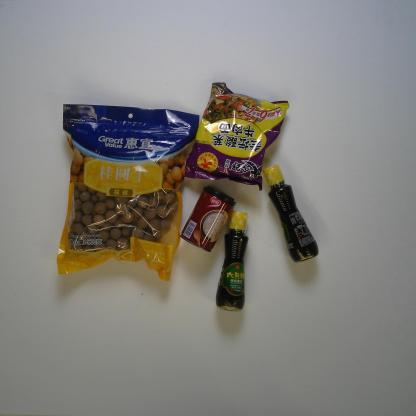Canned Food: (181, 186, 236, 252)
Dried Food: (57, 103, 199, 283)
Instant Noodles: (184, 82, 290, 191)
Seasoner: (263, 164, 319, 264), (216, 210, 249, 312)
